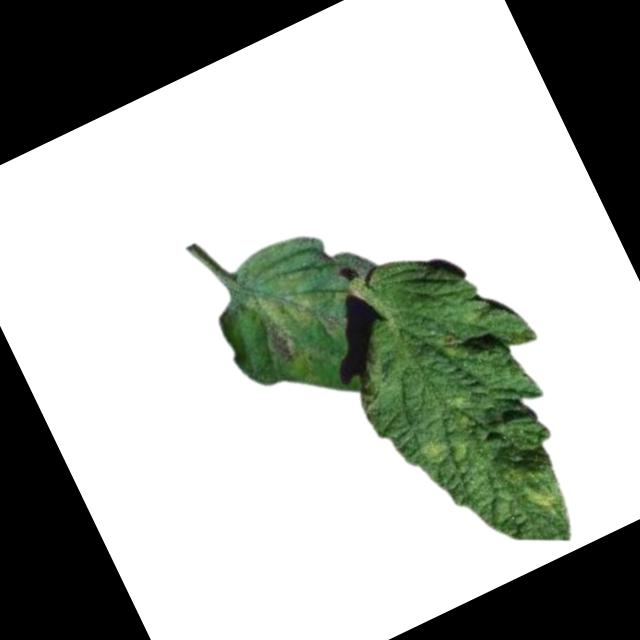Leaf_Mold: (241, 269, 330, 369), (521, 474, 560, 517), (417, 429, 455, 469)
